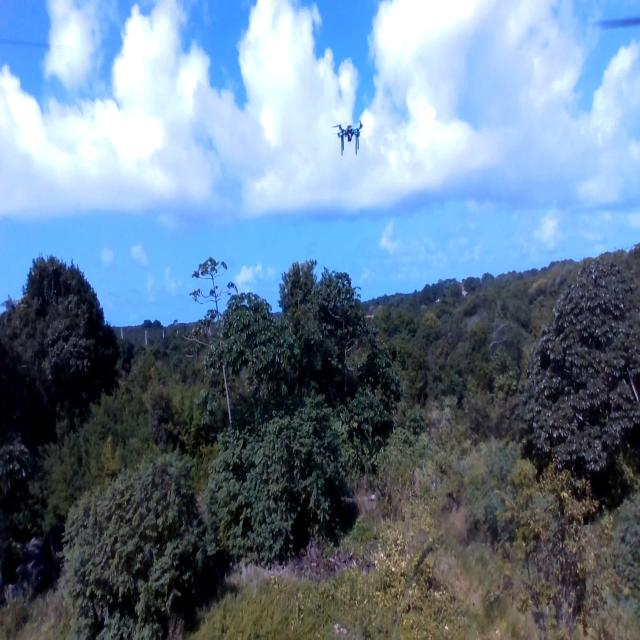-uav-: (328, 108, 368, 166)
